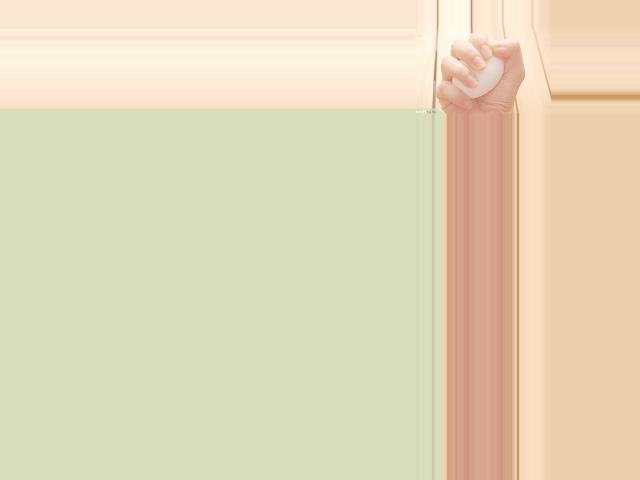egg: (451, 51, 504, 99)
